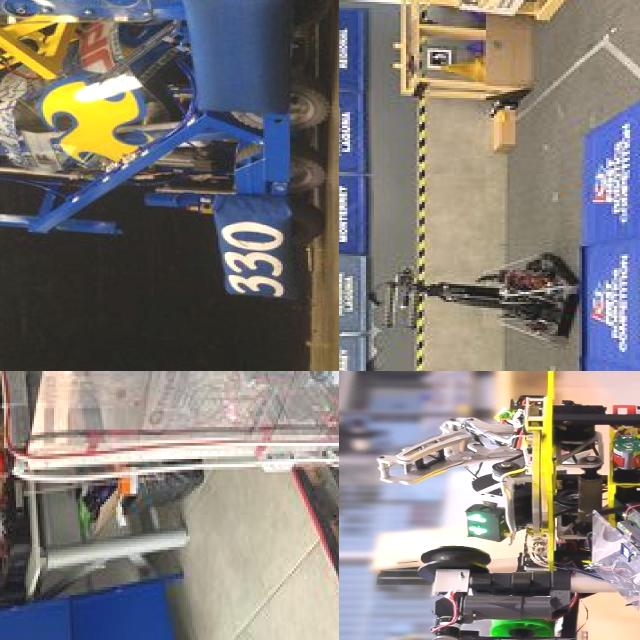FRC-Robots: (0, 0, 301, 288), (0, 371, 339, 615), (339, 371, 640, 640), (358, 243, 580, 359)
